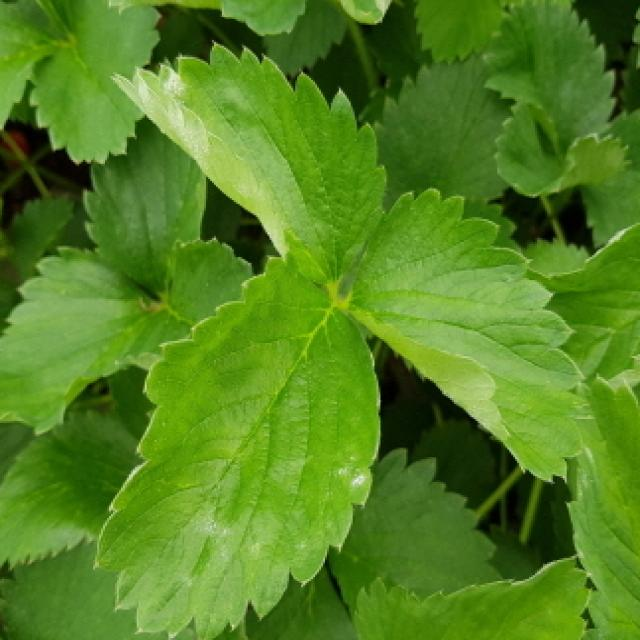Powdery Mildew Leaf: (89, 256, 382, 640), (112, 40, 389, 295)
